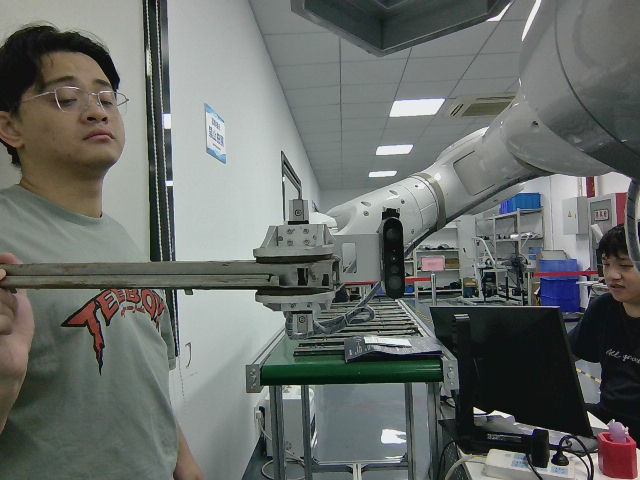down: (12, 261, 338, 291)
